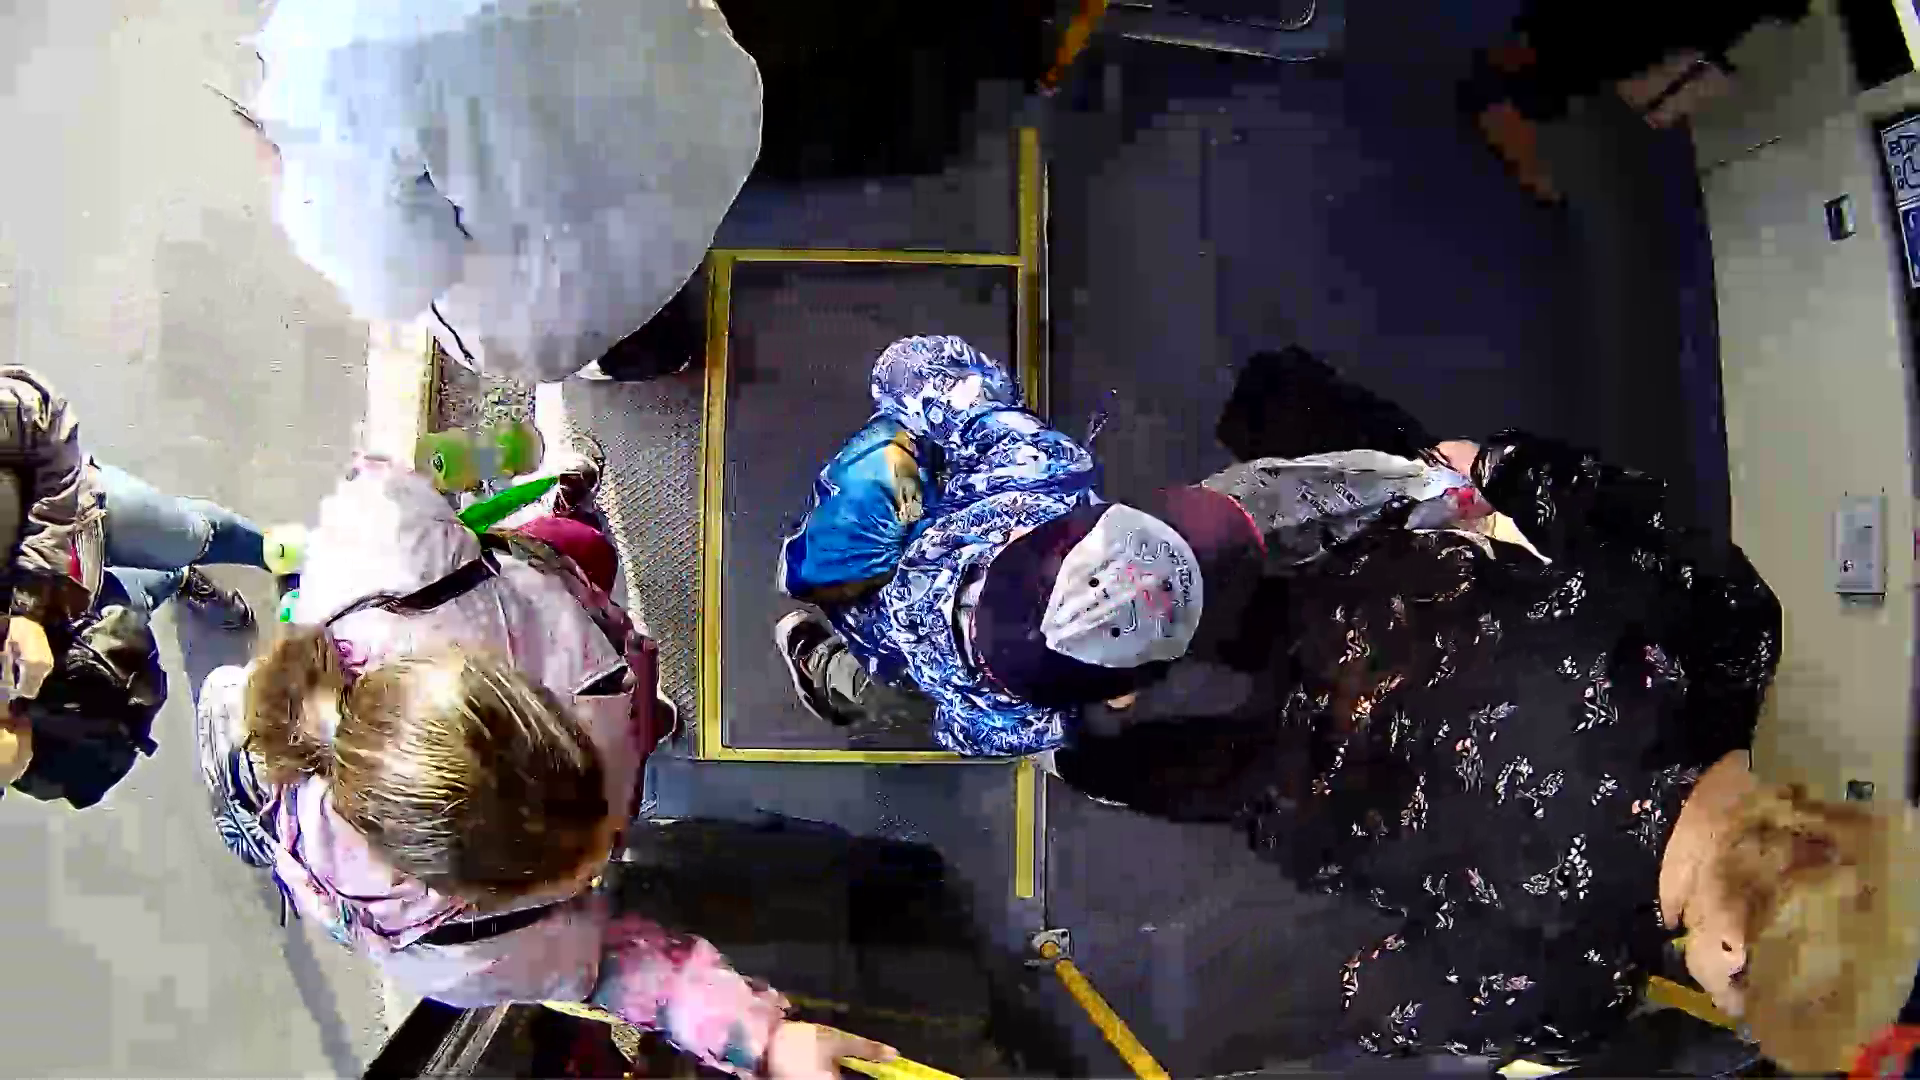person: (1187, 338, 1920, 1080), (152, 431, 733, 1015), (779, 320, 1333, 835)
